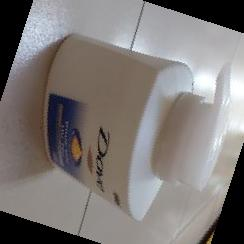dove: (37, 31, 230, 223)
